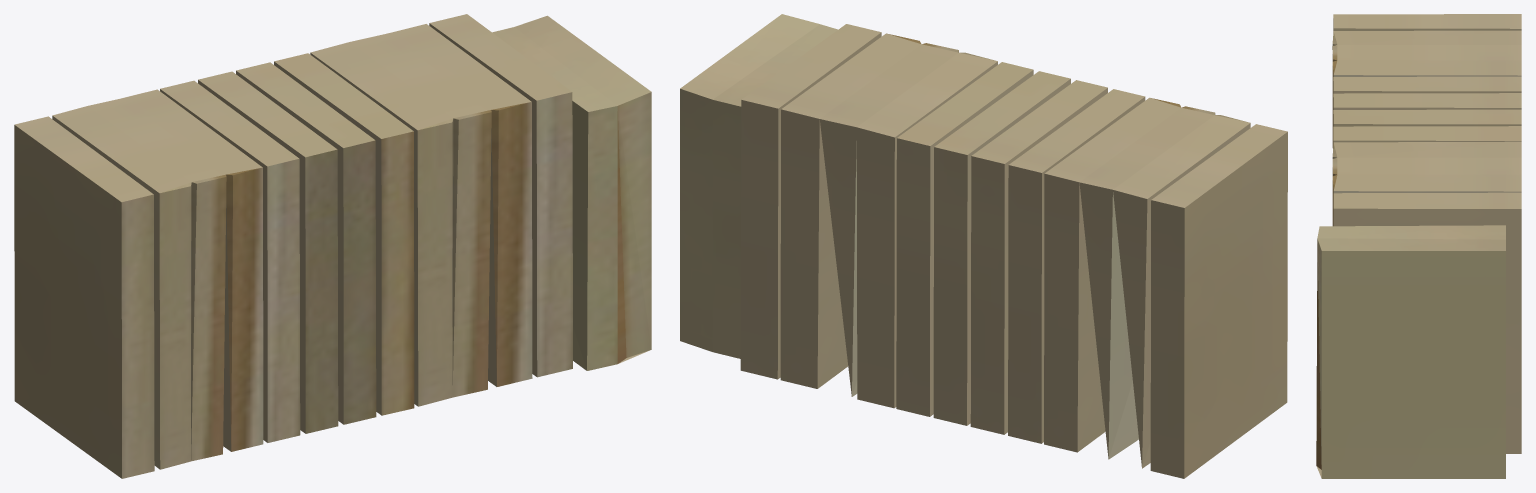
The model's file is book3_v1.dae.
3 views of the same model, side by side, from view 1: azimuth 30°, elevation 25°; view 2: azimuth 150°, elevation 25°; view 3: azimuth 270°, elevation 25° (orthographic). The views are drawn at different scales.
Parts seen in each view (by area): view 1: node; view 2: node; view 3: node.
Part boxes in pixels (x1=…): node: x1=14, y1=14, x2=651, y2=478; node: x1=680, y1=14, x2=1287, y2=478; node: x1=1316, y1=14, x2=1521, y2=478.
Bounding box in the file's own units: 0.3405 × 0.1725 × 0.1306.
1 material, 1 textured.
